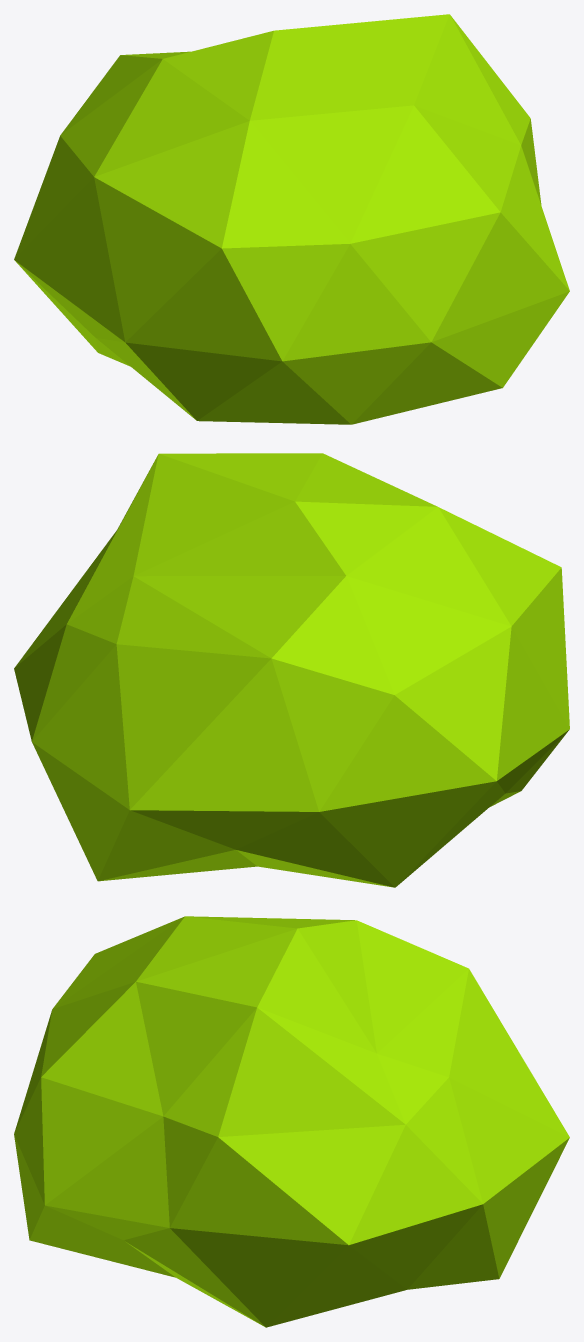
The model's file is struik2.fbx.
3 renders of one model, top to bottom at view 1: azimuth 30°, elevation 25°; view 2: azimuth 150°, elevation 25°; view 3: azimuth 270°, elevation 25°, orthographic. The views are drawn at different scales.
Parts seen in each view (by area): view 1: Icosphere; view 2: Icosphere; view 3: Icosphere.
Part boxes in pixels (box(x1,y1,x2,y2)): Icosphere: box(14, 14, 569, 424); Icosphere: box(14, 453, 569, 887); Icosphere: box(14, 916, 569, 1327).
Size of the model in its own units: 372 by 237 by 387.
